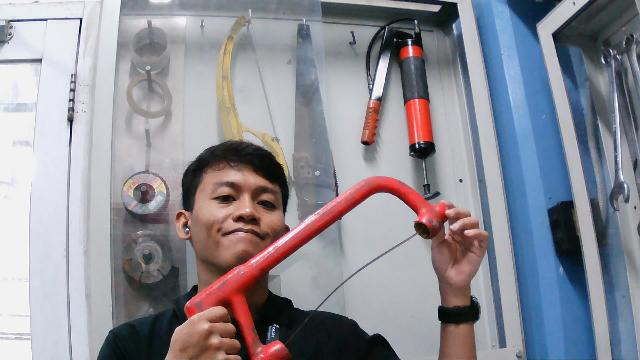gergaji_besi: (179, 172, 454, 360)
